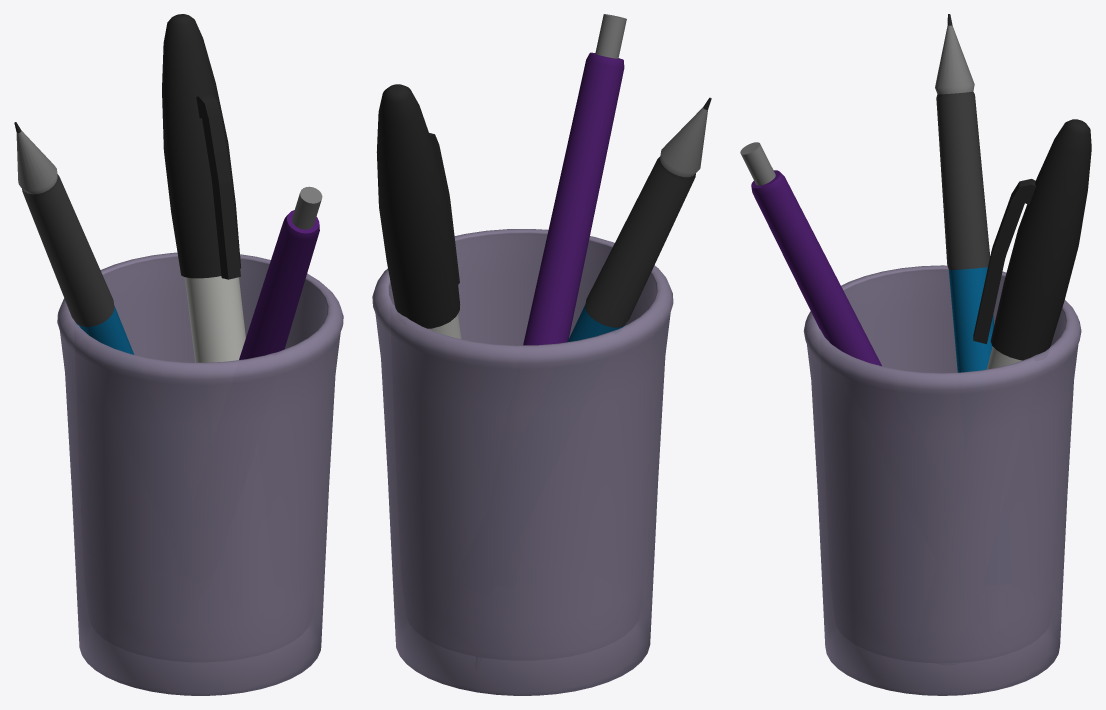
File: PenHolder.fbx
3 renders of one model, left to right at view 1: azimuth 30°, elevation 25°; view 2: azimuth 150°, elevation 25°; view 3: azimuth 270°, elevation 25°, orthographic. The views are drawn at different scales.
Parts seen in each view (by area): view 1: pCube3; view 2: pCube3; view 3: pCube3.
Part boxes in pixels (left/top/right/bottom): pCube3: left=14, top=14, right=343, bottom=695; pCube3: left=372, top=14, right=711, bottom=695; pCube3: left=740, top=14, right=1091, bottom=695.
Size of the model in its own units: 8.62 by 15.39 by 8.83.
